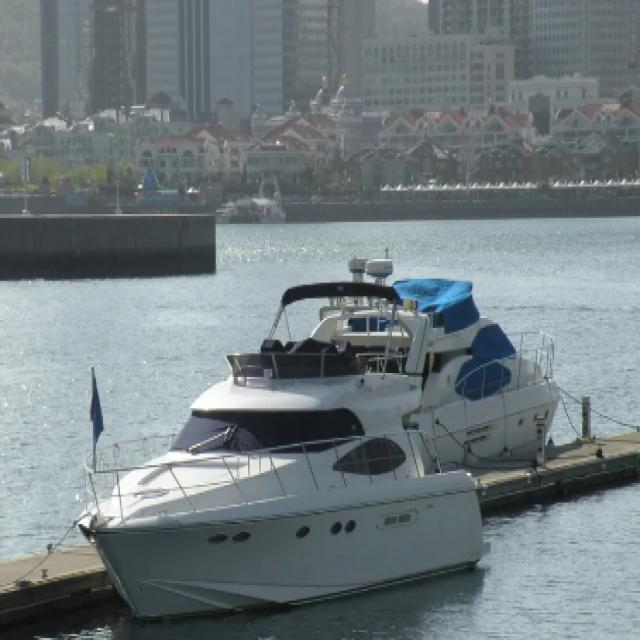houseboat: (76, 282, 482, 615), (331, 256, 557, 462)
